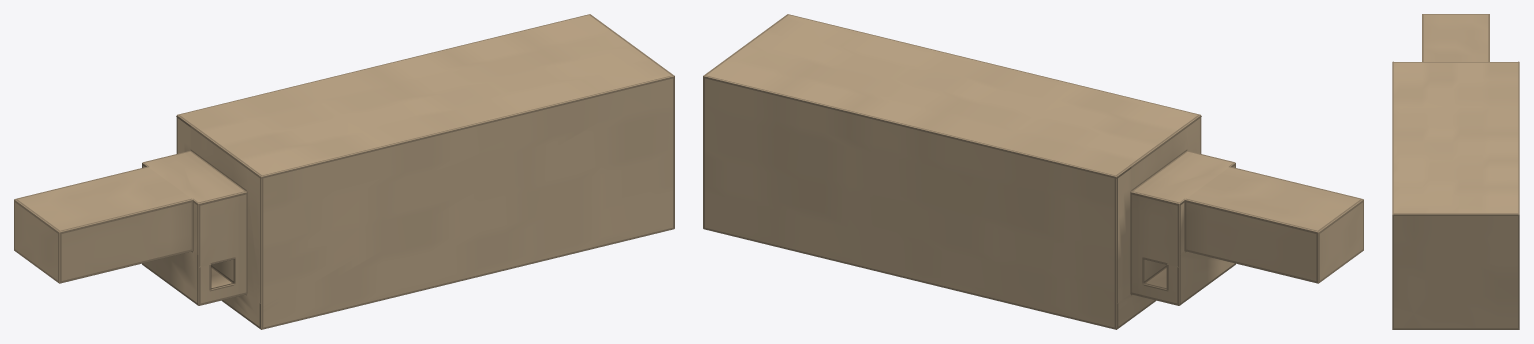
3 renders of one model, left to right at view 1: azimuth 30°, elevation 25°; view 2: azimuth 150°, elevation 25°; view 3: azimuth 270°, elevation 25°, orthographic. The views are drawn at different scales.
Visible parts, largest first — view 1: part-b; view 2: part-b; view 3: part-b.
Boxes of the visible parts, x1,y1,x2,y2 form: part-b: (14,14,674,329); part-b: (703,14,1363,329); part-b: (1392,14,1519,329).
Size of the model in its own units: 0.4908 by 0.1211 by 0.1208.
